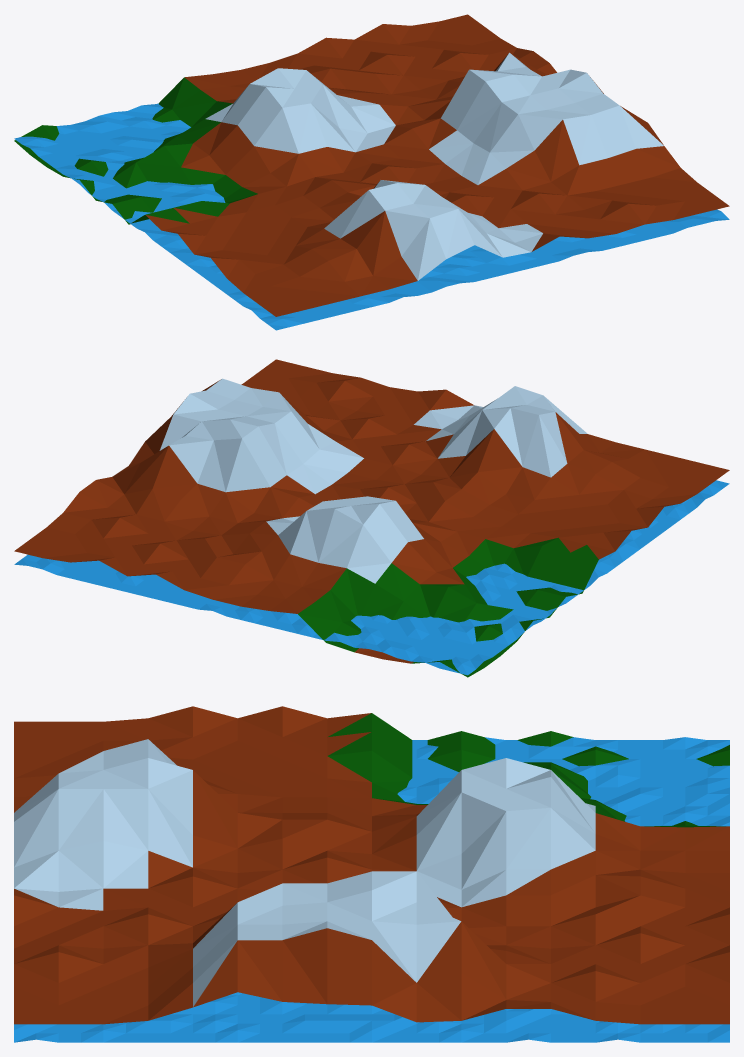
File: map_the_wild.fbx
The picture shows the model from 3 angles, top to bottom: view 1: azimuth 30°, elevation 25°; view 2: azimuth 150°, elevation 25°; view 3: azimuth 270°, elevation 25°; orthographic projection. The views are drawn at different scales.
Parts seen in each view (by area): view 1: 평면, 평면.001; view 2: 평면, 평면.001; view 3: 평면, 평면.001.
Part boxes in pixels (left/top/right/bottom): 평면: left=14, top=14, right=729, bottom=316; 평면.001: left=14, top=103, right=729, bottom=330; 평면: left=14, top=359, right=729, bottom=677; 평면.001: left=14, top=480, right=729, bottom=675; 평면: left=14, top=706, right=729, bottom=1024; 평면.001: left=14, top=737, right=729, bottom=1042.
Size of the model in its own units: 200 by 31.44 by 200.
